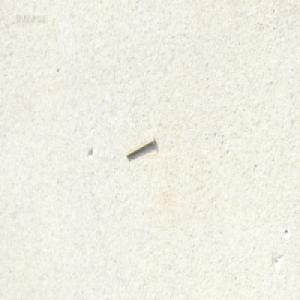Bolt: (125, 136, 154, 158)
